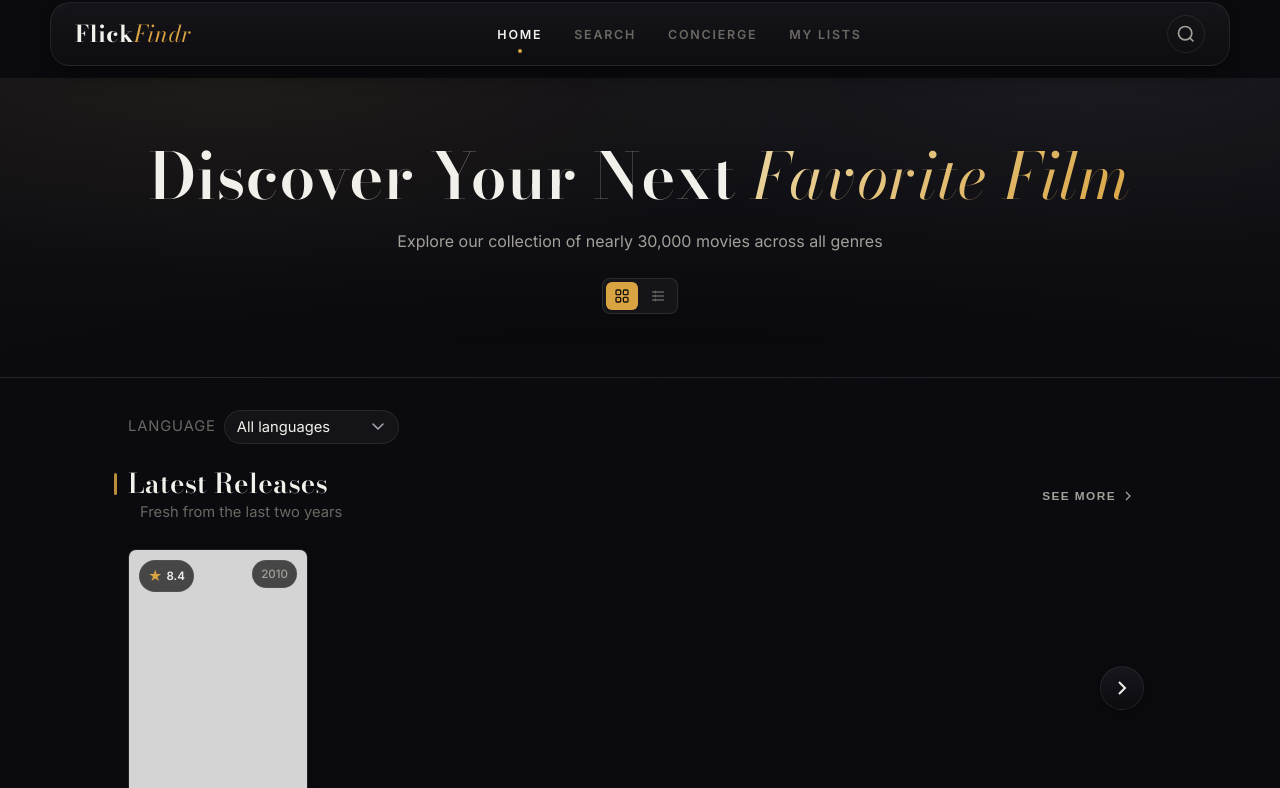
Test: home language filter › swaps the shelves for a browse of the chosen language and records it in the URL
Select "Hindi (599)" in the dropdown labelled "Language". click: (311, 427)
box: left=224, top=410, right=399, bottom=444
(page scrolled)
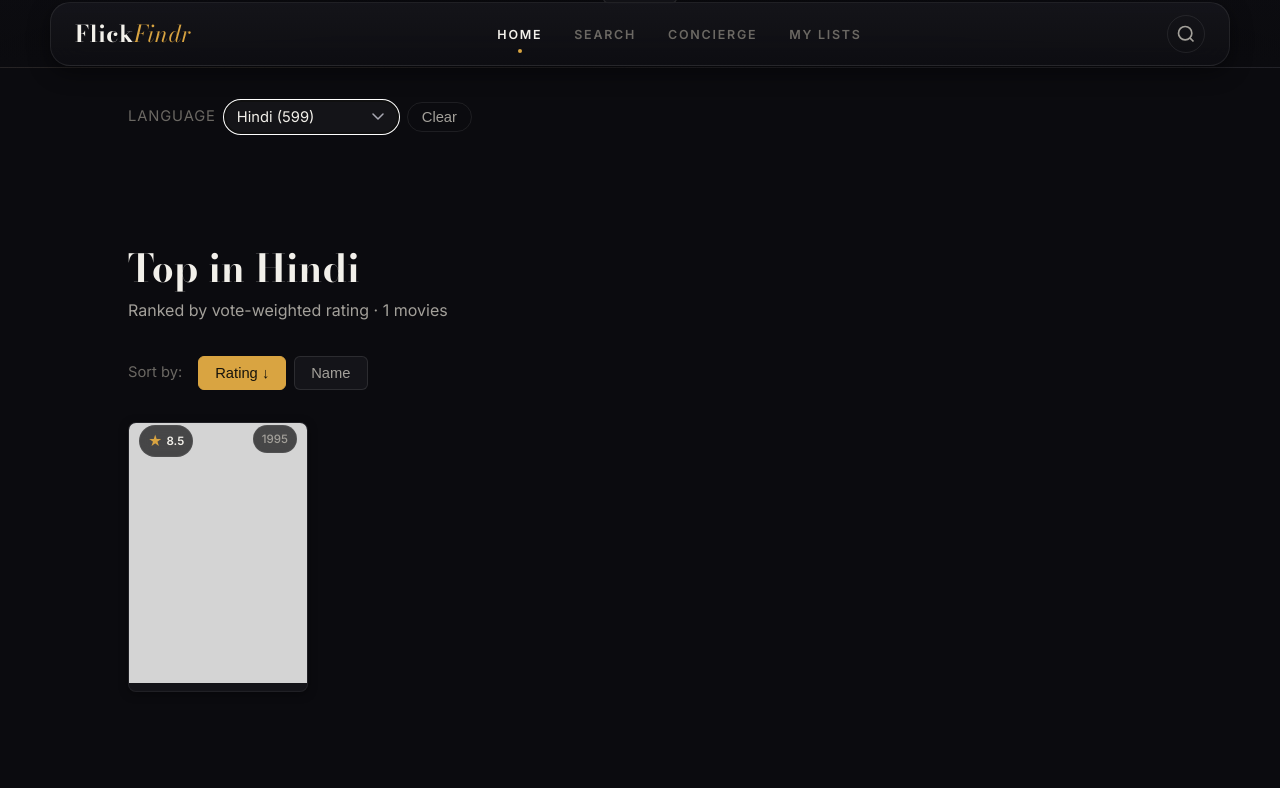
Expected: the heading "Top in Hindi" is shown, left=128, top=239, right=360, bottom=297
